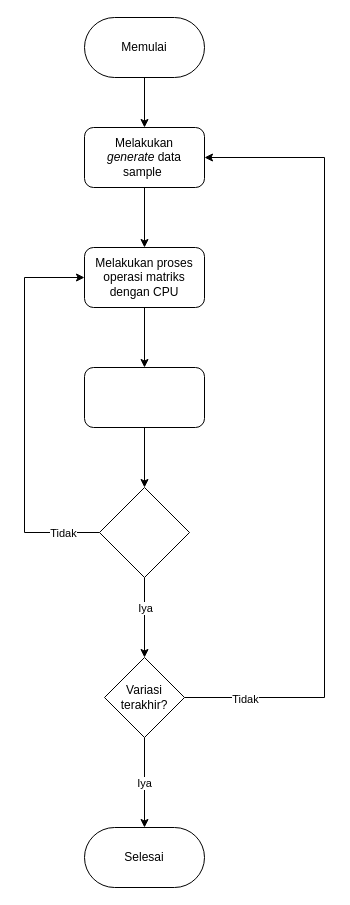
Image size: 350x905. Some labels were removed from this diagram. Each missing label, with the box of its shape:
Melakukan proses operasi matriks dengan GPU: (84, 366, 204, 428)
Sudah dilakukan 10 kali?: (98, 486, 190, 578)
